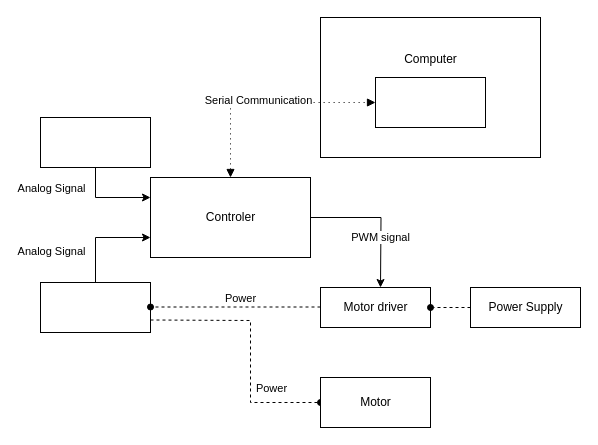
This 598x445 diagram has some shape labels left out. Here are the shapes that lost their labels. From the top down, the box of each, then its label:
(374, 76, 486, 128): Genetic algorithm
(40, 116, 150, 168): Thrust sensor
(40, 282, 150, 332): Current sensor
